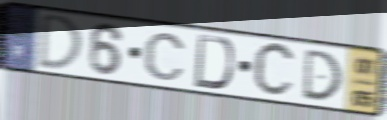6: (87, 22, 125, 77)
C: (251, 40, 298, 101), (142, 31, 188, 82)
D: (35, 11, 85, 72), (192, 32, 236, 91), (300, 47, 344, 102)
